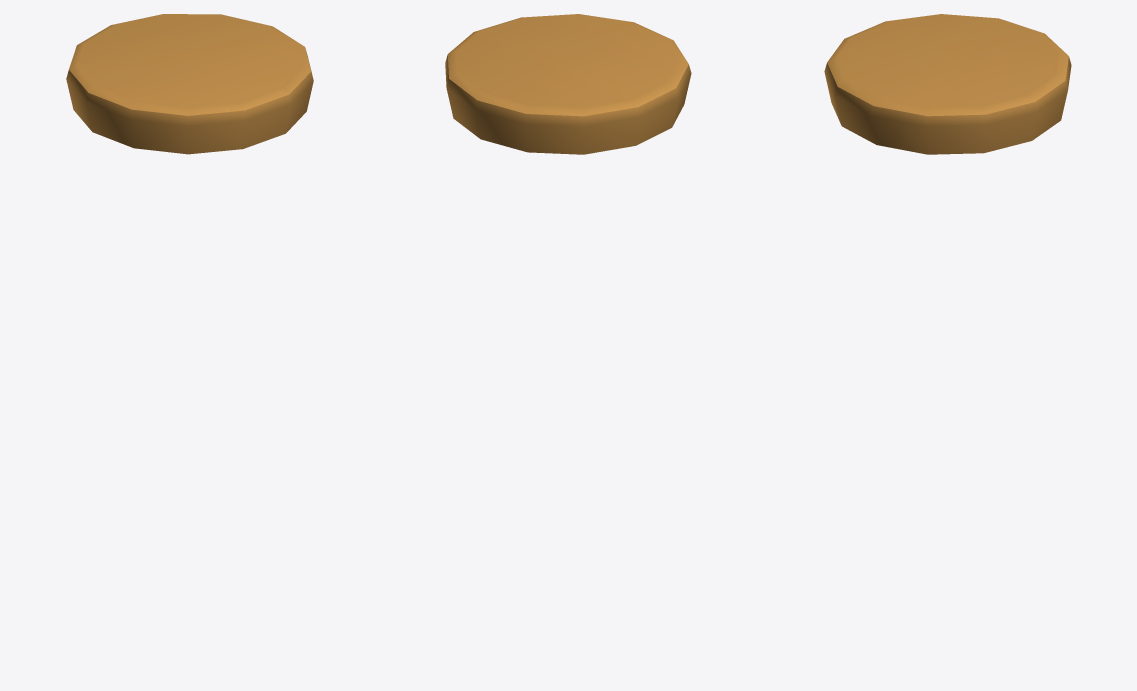
The model's file is Frasco_1.fbx.
3 renders of one model, left to right at view 1: azimuth 30°, elevation 25°; view 2: azimuth 150°, elevation 25°; view 3: azimuth 270°, elevation 25°, orthographic.
Parts seen in each view (by area): view 1: Frasco_1; view 2: Frasco_1; view 3: Frasco_1.
Boxes of the visible parts, bbox=[...] form: Frasco_1: bbox=[66, 14, 313, 154]; Frasco_1: bbox=[445, 14, 691, 154]; Frasco_1: bbox=[824, 14, 1071, 154].
Bounding box in the file's own units: 37.61 × 64.85 × 37.6.
1 material, 1 textured.
